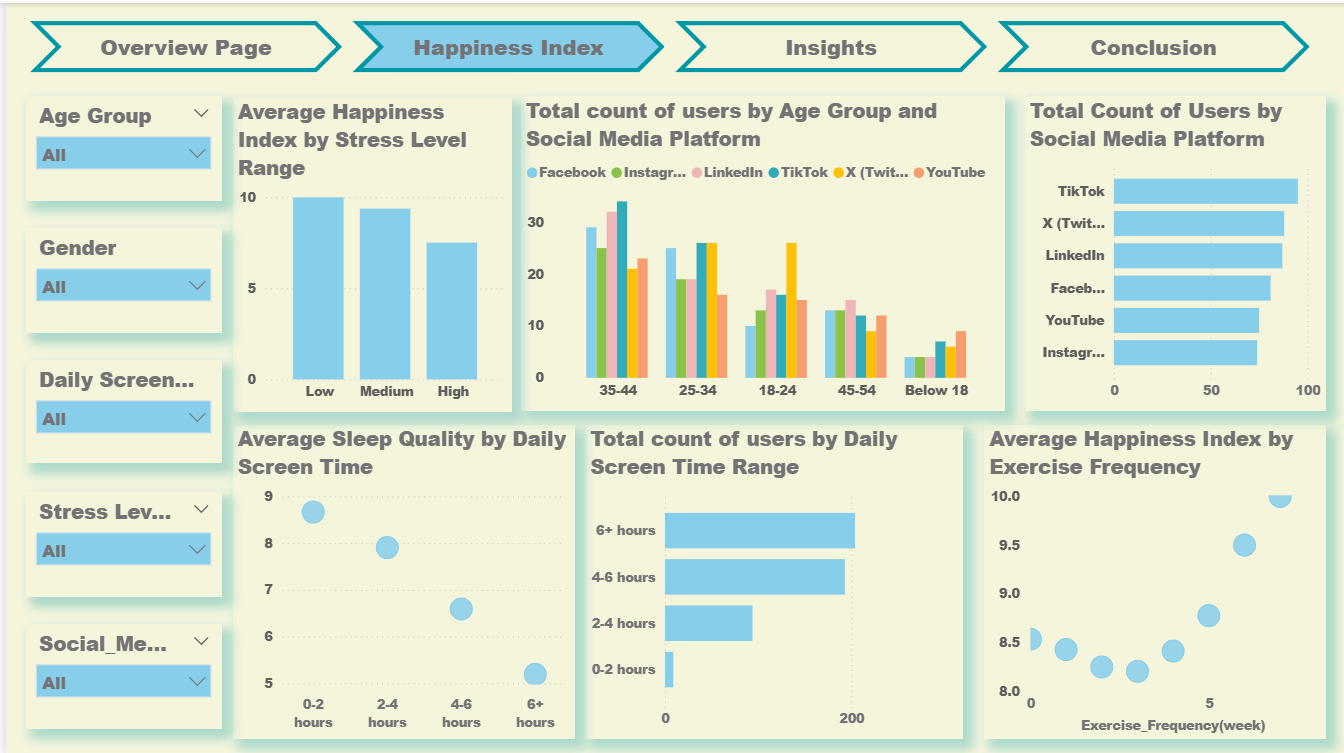

Layout of this report page (visuals, bound fields, positions):
{"tool":"powerbi","page":{"name":"Happiness Index","canvas":[1280,720],"ordinal":1},"visuals":[{"type":"clusteredBarChart","fields":{"Y":["Mental_Health_and_Social_Media_Balance_Dataset.Total count of users"],"Category":["Mental_Health_and_Social_Media_Balance_Dataset.Daily Screen Time Range"]},"box":[552.9,402.5,361,300.8],"z":0},{"type":"scatterChart","title":"Average Sleep Quality by Daily Screen Time ","fields":{"Y":["Avg(Mental_Health_and_Social_Media_Balance_Dataset.Sleep_Quality(1-10))"],"X":["Mental_Health_and_Social_Media_Balance_Dataset.Daily Screen Time Range"]},"box":[216.3,402.5,326.6,300.8],"z":1000},{"type":"clusteredColumnChart","title":"Average Happiness Index by Stress Level Range","fields":{"Category":["Mental_Health_and_Social_Media_Balance_Dataset.Stress Level Range"],"Y":["Avg(Mental_Health_and_Social_Media_Balance_Dataset.Happiness_Index(1-10))"]},"box":[216.8,89.8,266.4,300.8],"z":2000},{"type":"scatterChart","title":"Average Happiness Index by Exercise Frequency","fields":{"X":["Mental_Health_and_Social_Media_Balance_Dataset.Exercise_Frequency(week)"],"Y":["Avg(Mental_Health_and_Social_Media_Balance_Dataset.Happiness_Index(1-10))"]},"box":[933.9,402.5,326.6,300.8],"z":3000},{"type":"pageNavigator","box":[22.3,17.5,1224.8,49.3],"z":4000},{"type":"clusteredColumnChart","title":"Total count of users by Age Group and Social Media Platform","fields":{"Category":["Mental_Health_and_Social_Media_Balance_Dataset.Age Group"],"Series":["Mental_Health_and_Social_Media_Balance_Dataset.Social_Media_Platform"],"Y":["Mental_Health_and_Social_Media_Balance_Dataset.Total count of users"]},"box":[491.3,88.8,462.7,300.8],"z":5000},{"type":"clusteredBarChart","title":"Total Count of Users by Social Media Platform","fields":{"Category":["Mental_Health_and_Social_Media_Balance_Dataset.Social_Media_Platform"],"Y":["Mental_Health_and_Social_Media_Balance_Dataset.Total count of users"]},"box":[972.6,88.8,287.9,300.8],"z":6000},{"type":"slicer","fields":{"Values":["Mental_Health_and_Social_Media_Balance_Dataset.Age Group"]},"box":[18.6,88.8,187.6,100.3],"z":7000},{"type":"slicer","fields":{"Values":["Mental_Health_and_Social_Media_Balance_Dataset.Gender"]},"box":[18.6,214.9,187.6,100.3],"z":8000},{"type":"slicer","fields":{"Values":["Mental_Health_and_Social_Media_Balance_Dataset.Daily Screen Time Range"]},"box":[18.6,340.9,187.6,98.8],"z":9000},{"type":"slicer","fields":{"Values":["Mental_Health_and_Social_Media_Balance_Dataset.Stress Level Range"]},"box":[18.6,467,187.6,100.3],"z":10000},{"type":"slicer","fields":{"Values":["Mental_Health_and_Social_Media_Balance_Dataset.Social_Media_Platform"]},"box":[18.6,593,187.6,100.3],"z":11000}]}

Visuals, with their boxes in screenshot pixels (x1, y1, x2, y2), scaled from the page's 1280x720 canvas onto the 1344x753 screenshot:
clusteredBarChart - Mental_Health_and_Social_Media_Balance_Dataset.Total count of users x Mental_Health_and_Social_Media_Balance_Dataset.Daily Screen Time Range: pyautogui.locateOnScreen(581, 421, 960, 736)
"Average Sleep Quality by Daily Screen Time " scatterChart: pyautogui.locateOnScreen(227, 421, 570, 736)
"Average Happiness Index by Stress Level Range" clusteredColumnChart: pyautogui.locateOnScreen(228, 94, 507, 409)
"Average Happiness Index by Exercise Frequency" scatterChart: pyautogui.locateOnScreen(981, 421, 1324, 736)
pageNavigator: pyautogui.locateOnScreen(23, 18, 1309, 70)
"Total count of users by Age Group and Social Media Platform" clusteredColumnChart: pyautogui.locateOnScreen(516, 93, 1002, 407)
"Total Count of Users by Social Media Platform" clusteredBarChart: pyautogui.locateOnScreen(1021, 93, 1324, 407)
slicer - Mental_Health_and_Social_Media_Balance_Dataset.Age Group: pyautogui.locateOnScreen(20, 93, 217, 198)
slicer - Mental_Health_and_Social_Media_Balance_Dataset.Gender: pyautogui.locateOnScreen(20, 225, 217, 330)
slicer - Mental_Health_and_Social_Media_Balance_Dataset.Daily Screen Time Range: pyautogui.locateOnScreen(20, 357, 217, 460)
slicer - Mental_Health_and_Social_Media_Balance_Dataset.Stress Level Range: pyautogui.locateOnScreen(20, 488, 217, 593)
slicer - Mental_Health_and_Social_Media_Balance_Dataset.Social_Media_Platform: pyautogui.locateOnScreen(20, 620, 217, 725)
